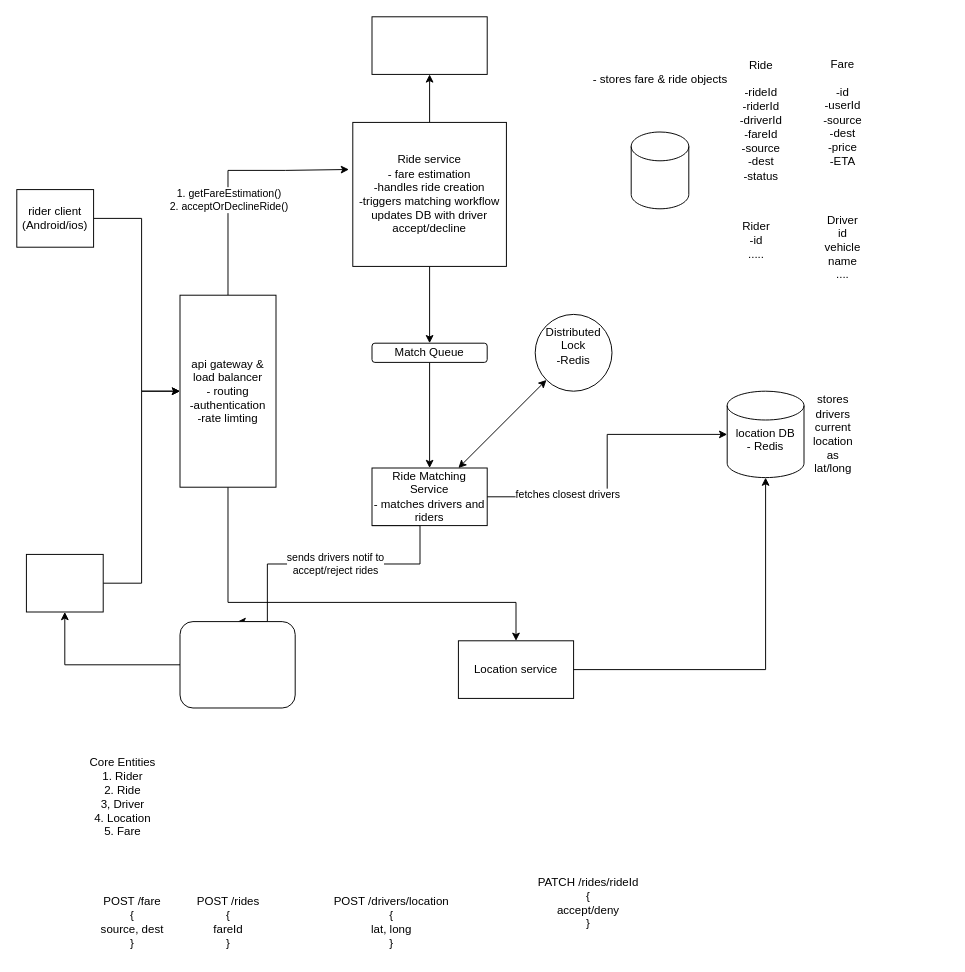
This 965x972 diagram has some shape labels left out. Each missing label, with the box of its shape:
3rd party mapping service: (371, 16, 487, 74)
driver client (Android/ios): (25, 553, 103, 612)
dynamoDB or postgresql: (630, 131, 689, 209)
Notification Service (apple push notif, firebase cloud m, etc: (179, 621, 295, 708)
